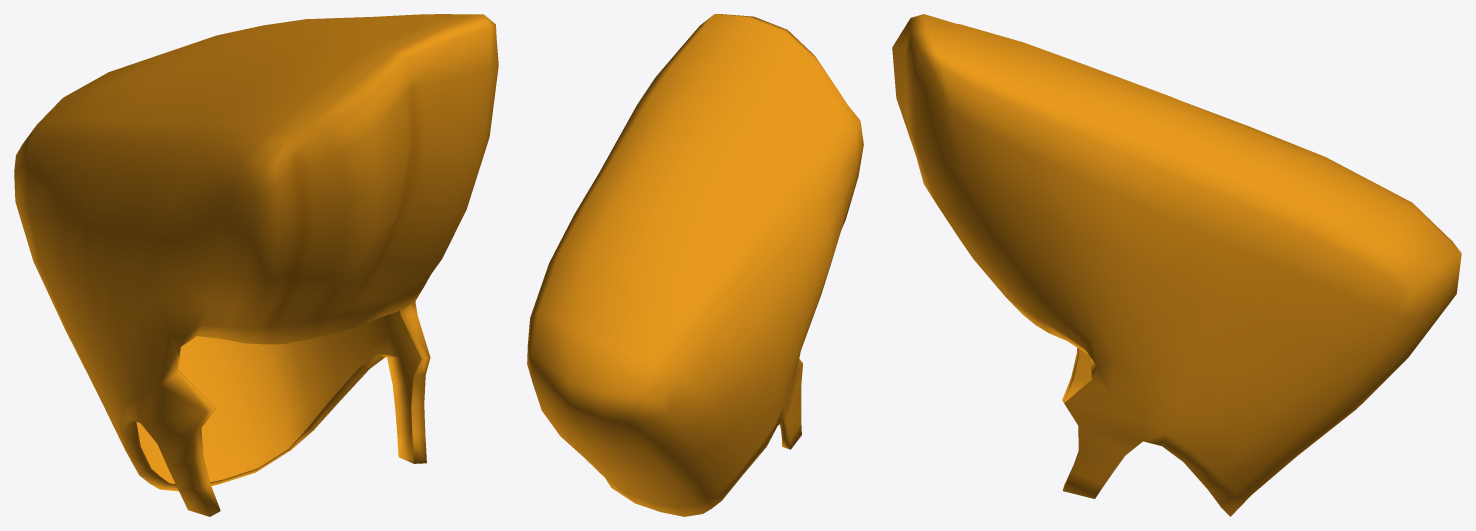
File: Bravo.glb
3 renders of one model, left to right at view 1: azimuth 30°, elevation 25°; view 2: azimuth 150°, elevation 25°; view 3: azimuth 270°, elevation 25°, orthographic. The views are drawn at different scales.
Visible parts, largest first — view 1: Bravo; view 2: Bravo; view 3: Bravo.
Part boxes in pixels (x1=…): Bravo: x1=14, y1=14, x2=498, y2=516; Bravo: x1=527, y1=14, x2=863, y2=516; Bravo: x1=892, y1=14, x2=1461, y2=516.
Bounding box in the file's own units: 0.9179 × 1.72 × 1.8.
1 material, 1 textured.
